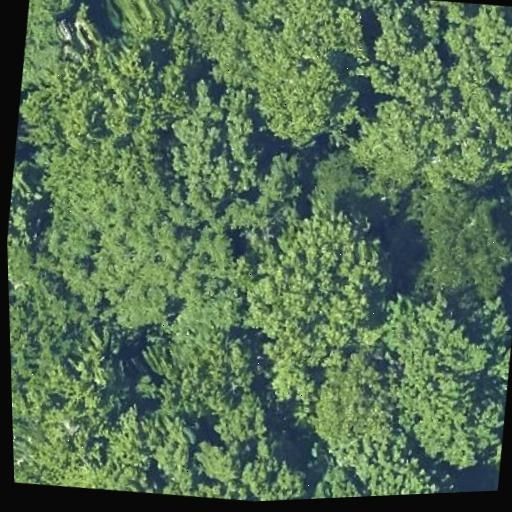tree-top: (43, 166, 249, 340), (237, 192, 402, 370), (13, 34, 182, 198), (374, 301, 512, 485), (342, 67, 512, 208), (217, 0, 366, 159), (8, 280, 133, 441), (148, 78, 275, 231), (24, 366, 153, 497), (140, 313, 273, 426), (397, 182, 512, 309), (299, 347, 412, 470), (396, 364, 511, 484), (436, 0, 512, 147), (184, 408, 284, 495), (336, 436, 473, 498), (125, 396, 212, 491), (365, 0, 458, 82), (250, 326, 335, 415), (201, 382, 279, 454), (234, 439, 319, 502), (100, 0, 196, 54), (189, 430, 253, 488), (23, 0, 87, 55), (304, 457, 371, 499), (6, 214, 43, 290), (478, 455, 502, 491)
